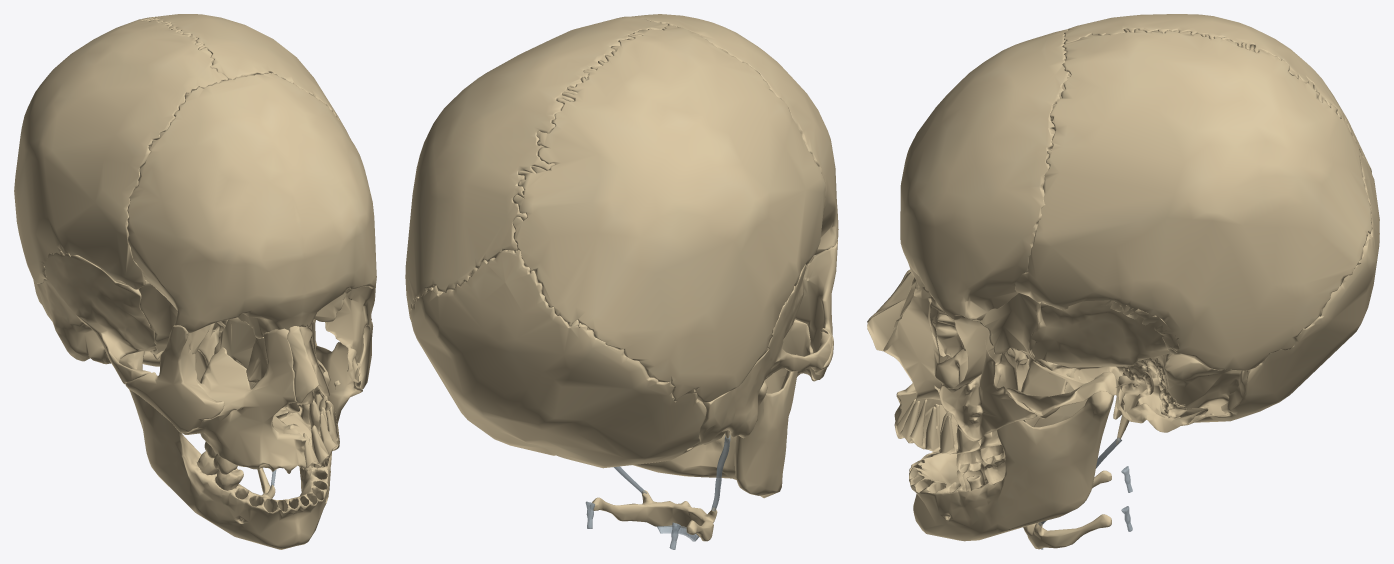
File: joint-skull.f5ccf94d.glb
The picture shows the model from 3 angles, left to right: view 1: azimuth 30°, elevation 25°; view 2: azimuth 150°, elevation 25°; view 3: azimuth 270°, elevation 25°; orthographic projection. The views are drawn at different scales.
Visible parts, largest first — view 1: Bone_FrontalBone_Right, Bone_ParietalBone_Right, Bone_Mandible_Right, Bone_Maxilla_Right, Bone_TemporalBone_Right, Bone_ParietalBone_Left, Bone_ZygomaticBone_Right, Bone_Maxilla_Left, Bone_SphenoidBone_Right, Bone_ZygomaticBone_Left, Bone_NasalBone_Right, Bone_EthmoidBone_Right (+3 smaller); view 2: Bone_ParietalBone_Right, Bone_OccipitalBone_Right, Bone_ParietalBone_Left, Bone_Mandible_Right, Bone_FrontalBone_Right, Bone_TemporalBone_Right, Bone_ZygomaticBone_Right, Bone_HyoidBone_Right, Bone_Maxilla_Right; view 3: Bone_ParietalBone_Left, Bone_FrontalBone_Right, Bone_TemporalBone_Left, Bone_Mandible_Right, Bone_OccipitalBone_Right, Bone_Maxilla_Left, Bone_ZygomaticBone_Left, Bone_ParietalBone_Right, Bone_SphenoidBone_Right, Bone_HyoidBone_Right, Bone_LacrimalBone_Left, Bone_NasalBone_Left (+1 smaller).
Part boxes in pixels (x1,y1,x2,y2): Bone_FrontalBone_Right: [127, 72, 376, 338]; Bone_ParietalBone_Right: [14, 17, 228, 289]; Bone_Mandible_Right: [119, 319, 331, 549]; Bone_Maxilla_Right: [183, 328, 306, 473]; Bone_TemporalBone_Right: [33, 251, 156, 384]; Bone_ParietalBone_Left: [142, 14, 350, 138]; Bone_ZygomaticBone_Right: [125, 325, 224, 433]; Bone_Maxilla_Left: [276, 320, 362, 468]; Bone_SphenoidBone_Right: [138, 281, 351, 381]; Bone_ZygomaticBone_Left: [325, 282, 376, 389]; Bone_NasalBone_Right: [287, 326, 318, 403]; Bone_EthmoidBone_Right: [220, 317, 263, 368]; Bone_ParietalBone_Right: [512, 25, 825, 402]; Bone_OccipitalBone_Right: [411, 250, 706, 468]; Bone_ParietalBone_Left: [405, 16, 667, 321]; Bone_Mandible_Right: [632, 354, 797, 498]; Bone_FrontalBone_Right: [632, 14, 838, 255]; Bone_TemporalBone_Right: [690, 263, 832, 448]; Bone_ZygomaticBone_Right: [795, 240, 837, 380]; Bone_HyoidBone_Right: [592, 490, 717, 541]; Bone_Maxilla_Right: [765, 319, 816, 393]; Bone_ParietalBone_Left: [1015, 28, 1372, 370]; Bone_FrontalBone_Right: [900, 29, 1070, 320]; Bone_TemporalBone_Left: [1007, 300, 1249, 444]; Bone_Mandible_Right: [909, 374, 1113, 541]; Bone_OccipitalBone_Right: [1160, 152, 1379, 422]; Bone_Maxilla_Left: [883, 280, 1018, 454]; Bone_ZygomaticBone_Left: [939, 316, 1036, 440]; Bone_ParietalBone_Right: [1055, 14, 1371, 172]; Bone_SphenoidBone_Right: [980, 293, 1080, 418]; Bone_HyoidBone_Right: [1023, 470, 1111, 549]; Bone_LacrimalBone_Left: [927, 296, 962, 357]; Bone_NasalBone_Left: [867, 272, 915, 351].
Bounding box in the file's own units: 0.1477 × 0.22 × 0.2.
